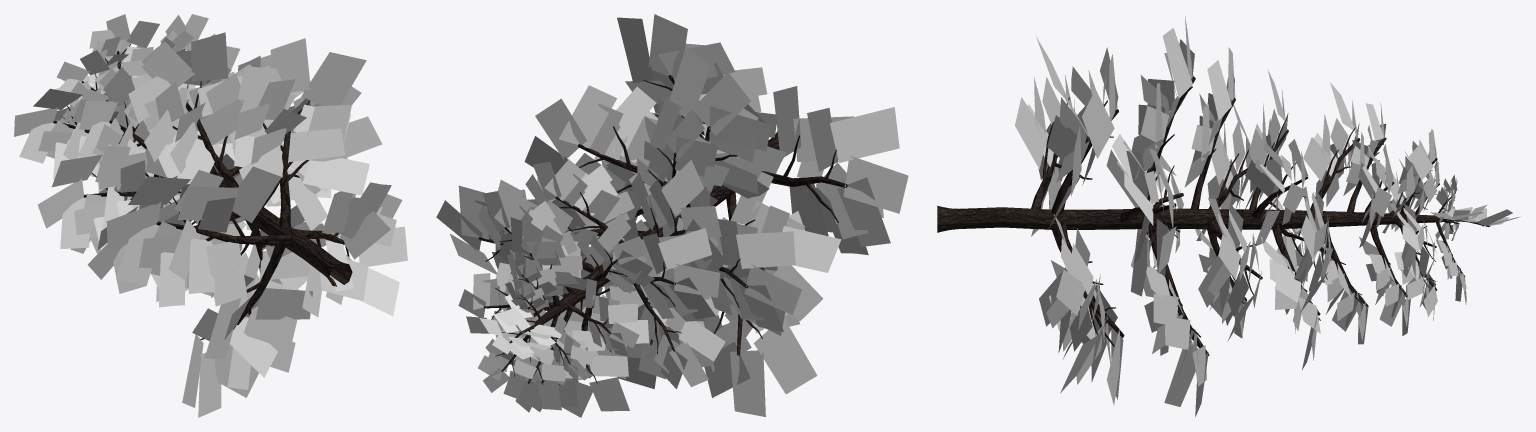
Rendered from SM_Tree4.fbx.
The picture shows the model from 3 angles, left to right: view 1: azimuth 30°, elevation 25°; view 2: azimuth 150°, elevation 25°; view 3: azimuth 270°, elevation 25°; orthographic projection. The views are drawn at different scales.
Visible parts, largest first — view 1: TreeBark.007; view 2: TreeBark.007; view 3: TreeBark.007.
Part boxes in pixels (x1,y1,x2,y2): TreeBark.007: [14, 14, 407, 417]; TreeBark.007: [436, 14, 908, 417]; TreeBark.007: [937, 16, 1520, 416].
Size of the model in its own units: 738 by 767 by 1073.
